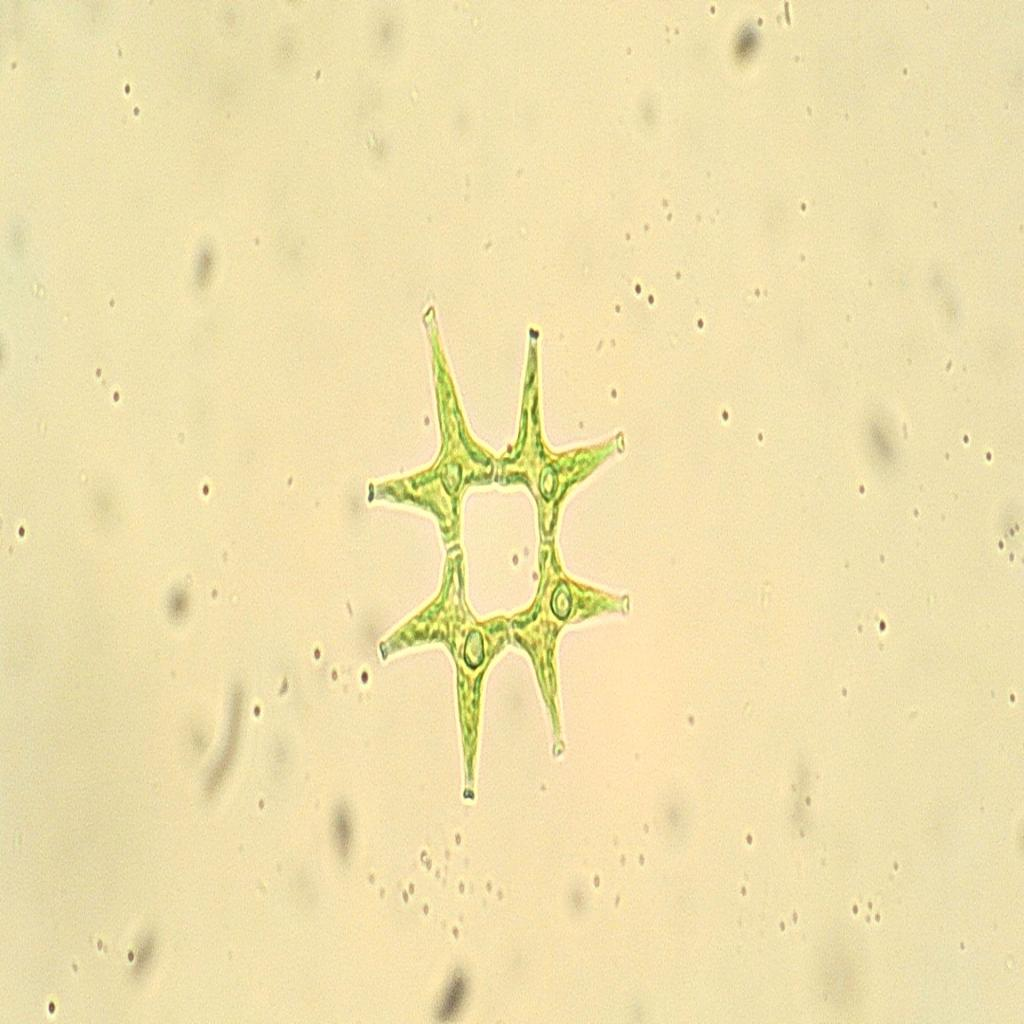Pediastrum_75O: (363, 282, 640, 813)
